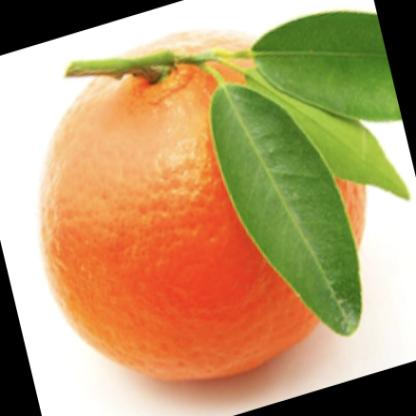fresh: (46, 34, 369, 362)
